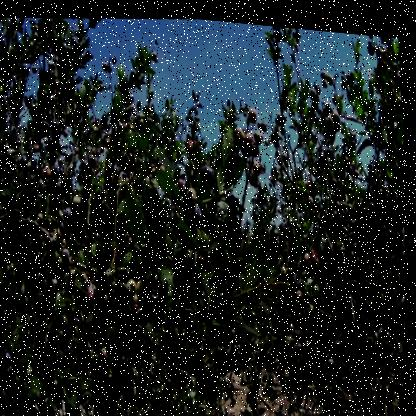intermediate: (235, 120, 266, 149), (307, 244, 323, 262), (89, 281, 100, 303), (249, 104, 259, 116)
mature: (52, 159, 67, 198), (185, 202, 208, 226), (201, 158, 220, 185), (62, 205, 75, 236), (82, 154, 103, 171), (295, 267, 306, 287), (31, 154, 40, 168)
young: (131, 273, 149, 309), (98, 279, 114, 317), (328, 107, 344, 134), (186, 182, 202, 201), (44, 167, 55, 190)
